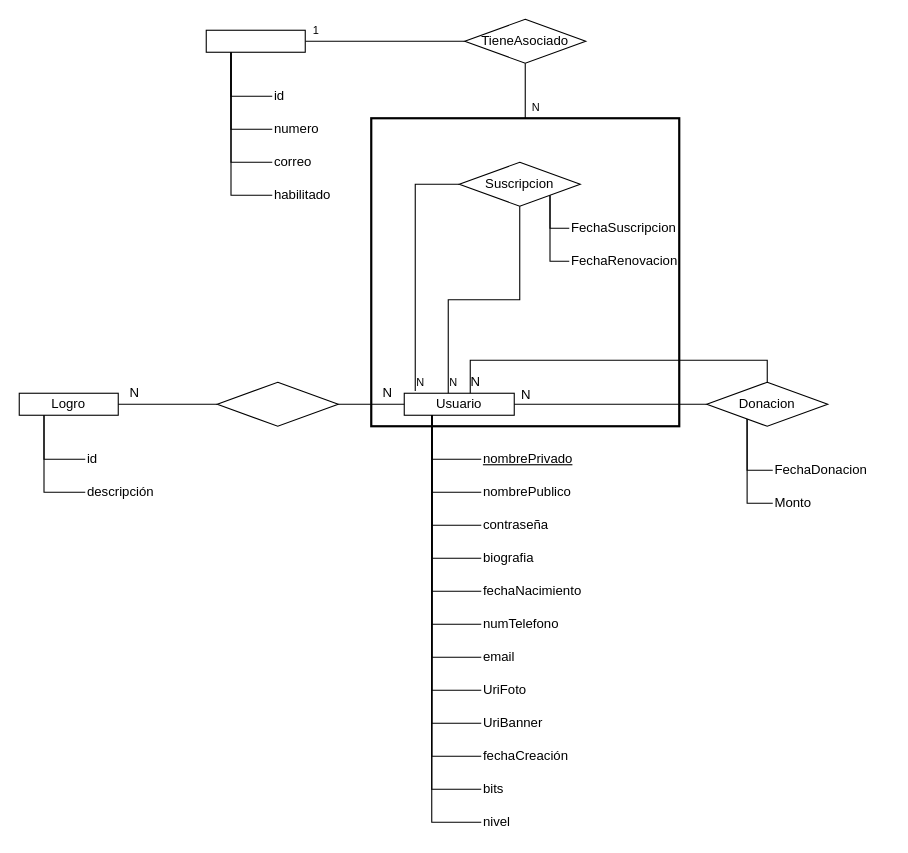
Some shapes in this 908 by 853 pixel diagram are drawn without their labels. The shapes that lost their labels are listed below. From the top down, each one's centre as x and y in pixels, then its label:
the point at 255,40: MedioDePago
the point at 277,403: Obtiene
